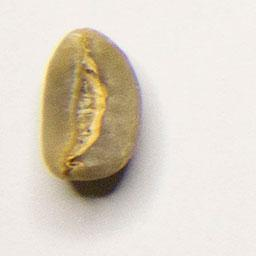longberry: (37, 23, 145, 185)
